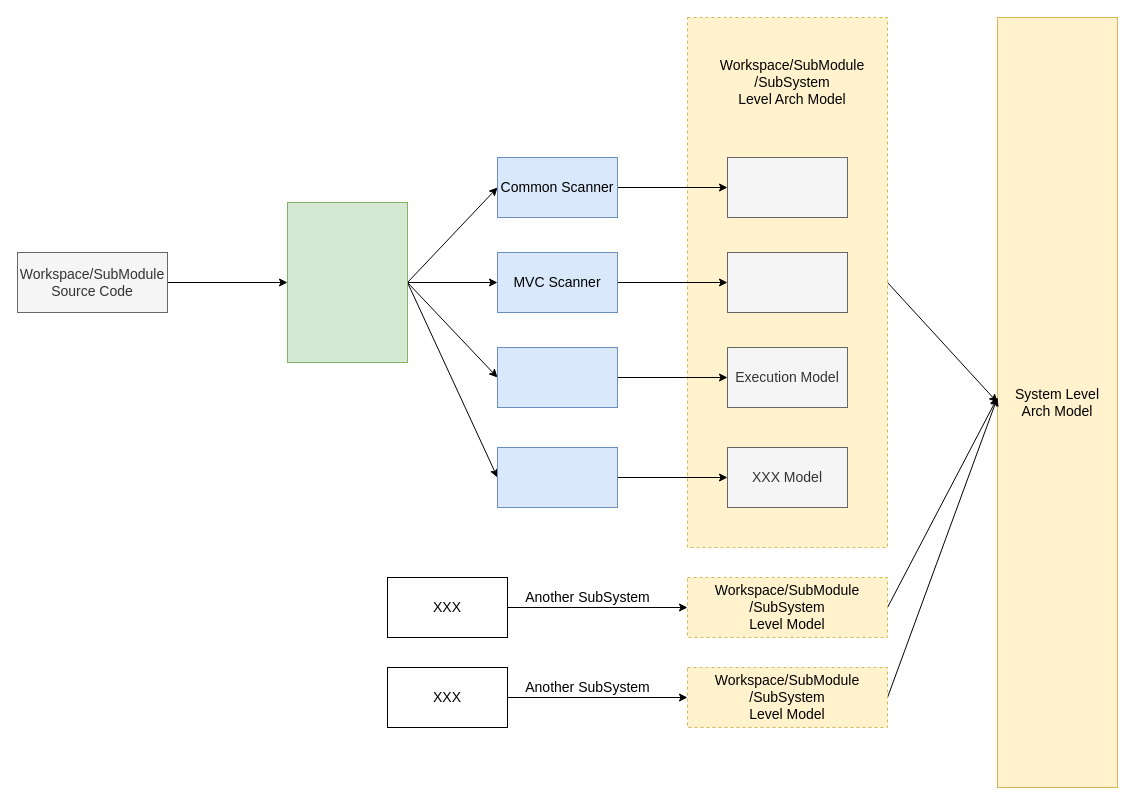
This 1135x805 diagram has some shape labels left out. The shapes that lost their labels are listed below. From the top down, each one's box as (x1, y1, x2, y2) in pixels, then its label:
(726, 156, 848, 218): Common Code Model
(286, 202, 408, 362): FrameWork Spec AST SCM ...
(726, 252, 848, 312): MVC Model
(496, 346, 618, 408): Execution Scanner
(496, 446, 618, 508): XXX Scanner
